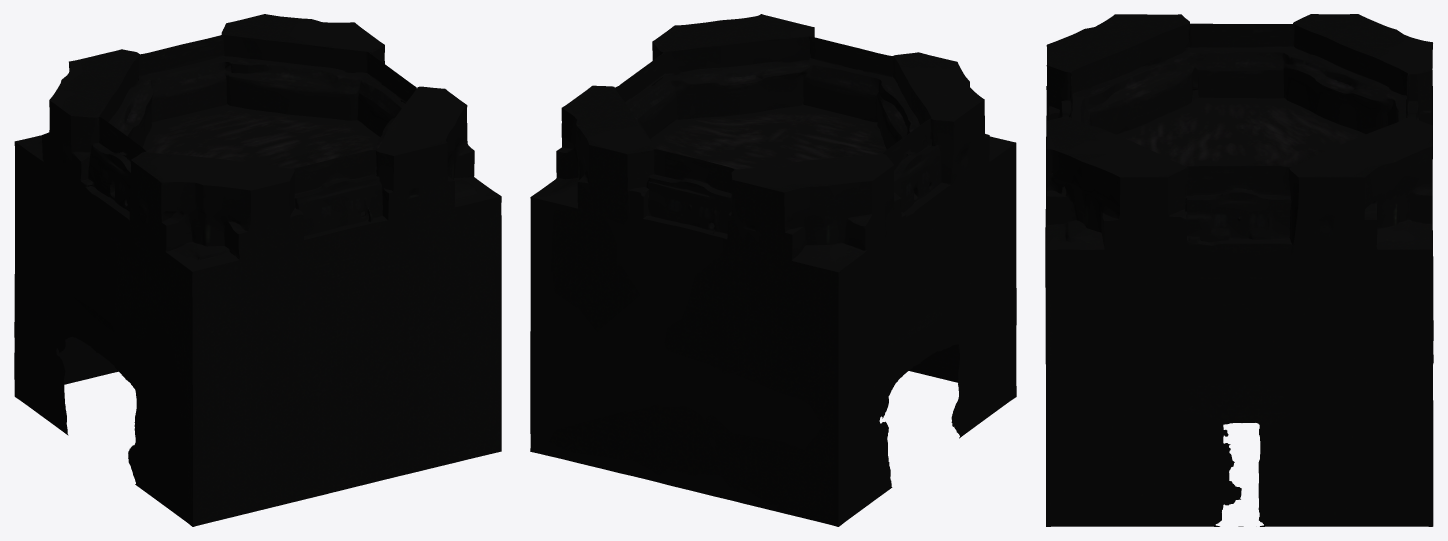
The model's file is nyc-tenement.glb.
3 renders of one model, left to right at view 1: azimuth 30°, elevation 25°; view 2: azimuth 150°, elevation 25°; view 3: azimuth 270°, elevation 25°, orthographic. The views are drawn at different scales.
Parts seen in each view (by area): view 1: geometry_0; view 2: geometry_0; view 3: geometry_0.
Part boxes in pixels (x1,y1,x2,y2): geometry_0: (14,14,501,526); geometry_0: (530,14,1016,526); geometry_0: (1045,14,1433,526).
Bounding box in the file's own units: 1 × 0.9989 × 1.
Materials: 1 (1 with a texture image).
